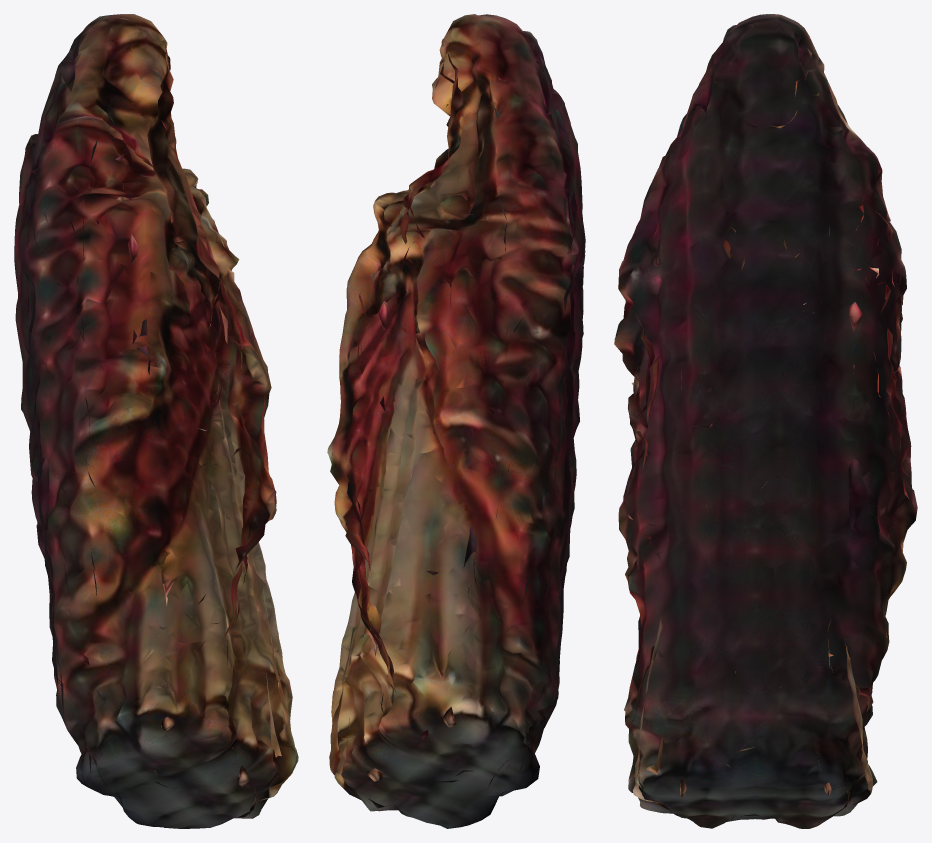
The picture shows the model from 3 angles, left to right: view 1: azimuth 30°, elevation 25°; view 2: azimuth 150°, elevation 25°; view 3: azimuth 270°, elevation 25°; orthographic projection. The views are drawn at different scales.
Visible parts, largest first — view 1: geometry_0; view 2: geometry_0; view 3: geometry_0.
Part boxes in pixels (bbox=[...]): geometry_0: bbox=[14, 14, 298, 828]; geometry_0: bbox=[327, 14, 585, 828]; geometry_0: bbox=[614, 14, 917, 828].
Bounding box in the file's own units: 0.5093 × 1.75 × 0.6242.
Materials: 1 (1 with a texture image).
